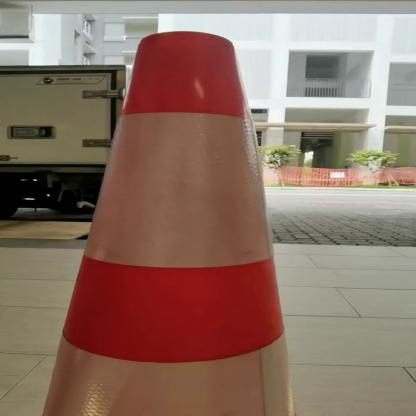cone: (31, 28, 343, 416)
